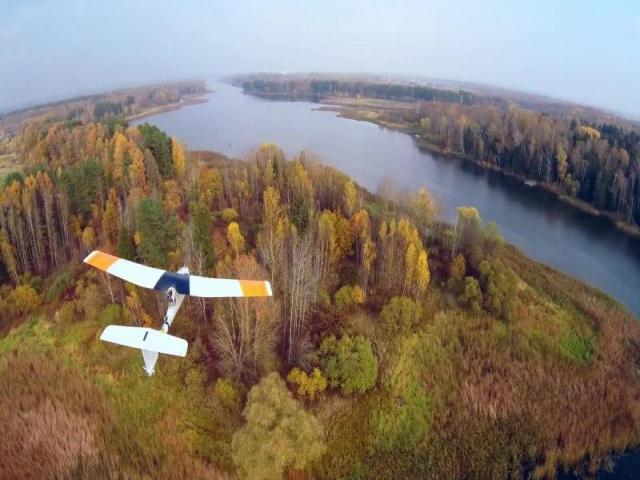hedef: (77, 246, 269, 376)
